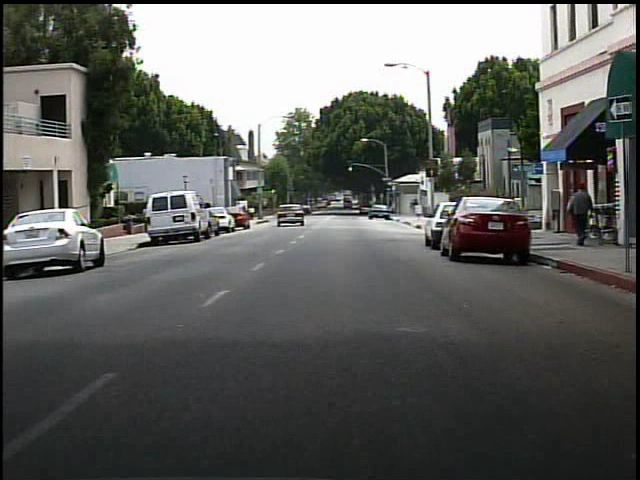person: (563, 181, 597, 248)
